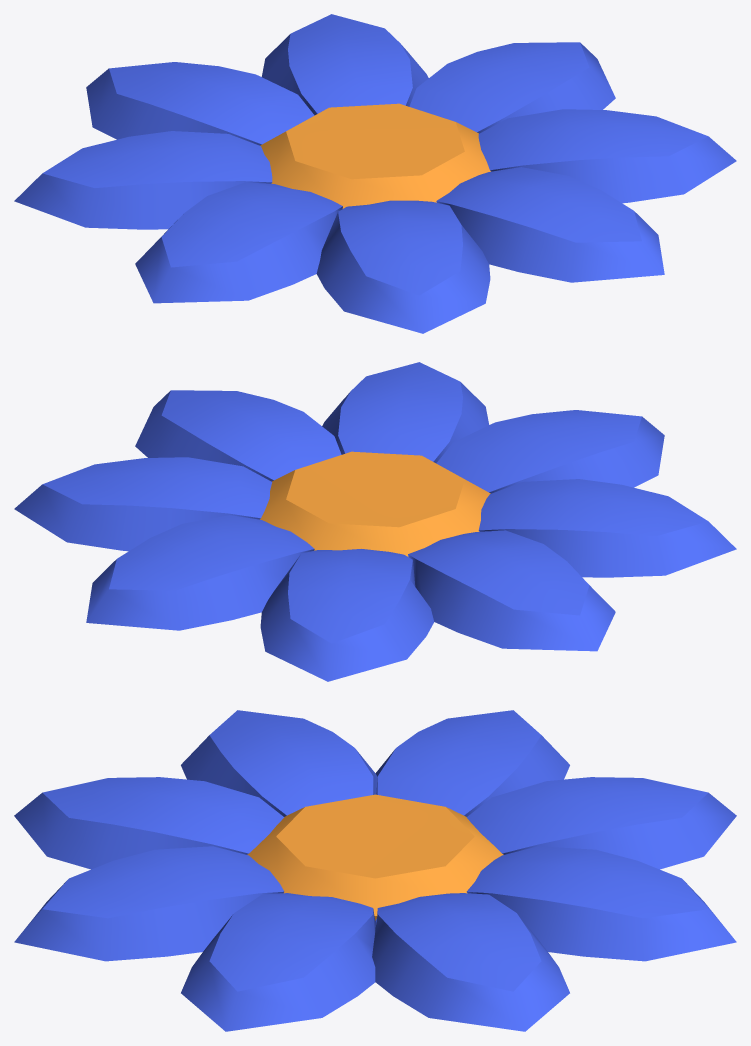
File: Flower_1_E.fbx
3 views of the same model, one above another, from view 1: azimuth 30°, elevation 25°; view 2: azimuth 150°, elevation 25°; view 3: azimuth 270°, elevation 25° (orthographic). The views are drawn at different scales.
Visible parts, largest first — view 1: Flower_1_E; view 2: Flower_1_E; view 3: Flower_1_E.
Part boxes in pixels (left/top/right/bottom): Flower_1_E: left=14, top=14, right=736, bottom=333; Flower_1_E: left=14, top=362, right=736, bottom=681; Flower_1_E: left=14, top=710, right=736, bottom=1031.
Bounding box in the file's own units: 33.7 × 2.43 × 33.7.
